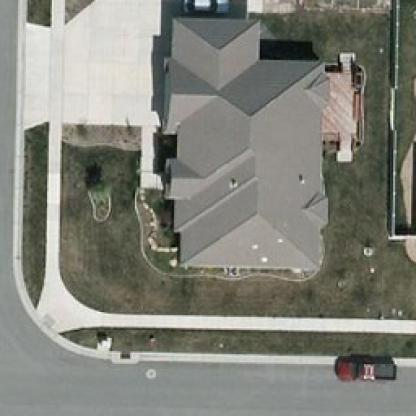car: (328, 346, 395, 384), (179, 0, 231, 18)
